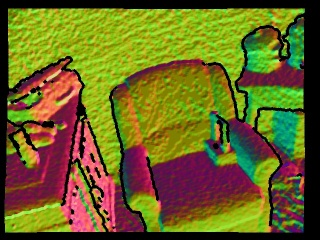station: (204, 111, 238, 166)
